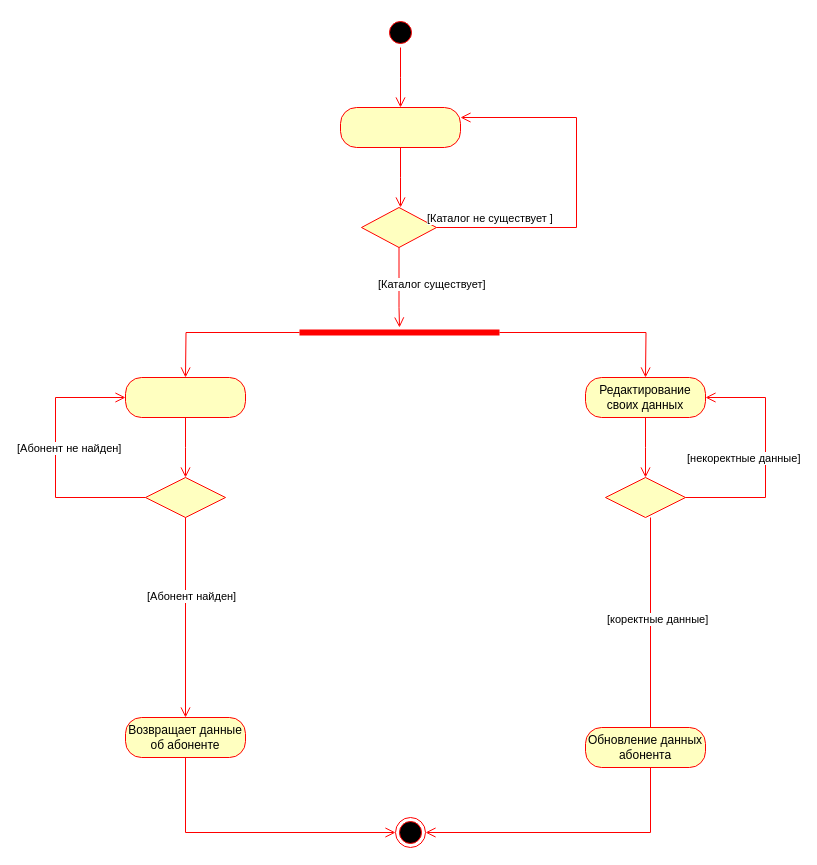
This 817x865 diagram has some shape labels left out. The box of each missing label's shape, as (x1, y1, x2, y2) in pixels:
Выбор каталога: (340, 106, 460, 148)
Поиск абонента: (124, 376, 246, 418)
